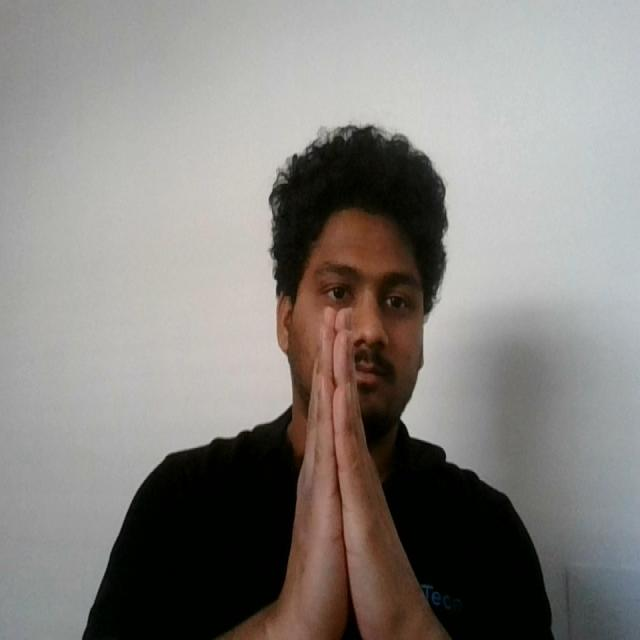Thanks: (266, 296, 446, 640)
